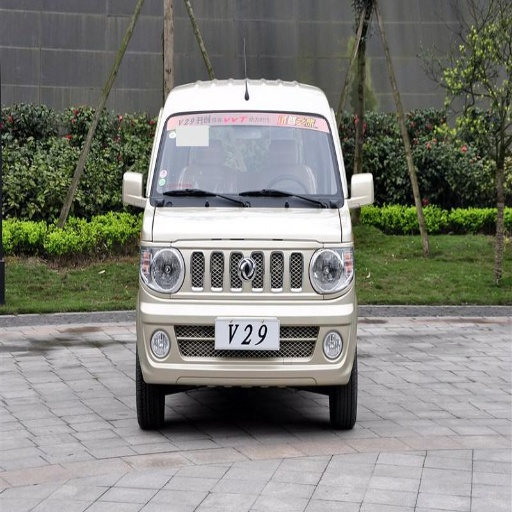front_bumper: (142, 241, 352, 382)
front_right_light: (142, 242, 181, 293)
hood: (149, 208, 344, 242)
